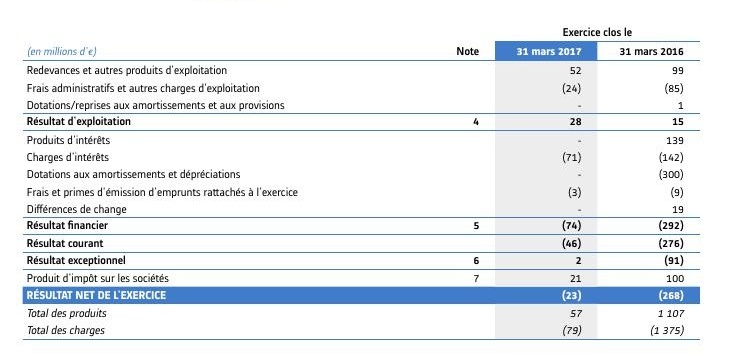table: (0, 0, 730, 357)
